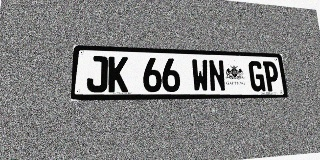6: (143, 57, 162, 92), (162, 58, 180, 92)
G: (248, 61, 266, 91)
J: (86, 56, 108, 92)
K: (108, 56, 128, 92)
N: (208, 59, 226, 92)
P: (263, 61, 280, 91)
W: (191, 59, 210, 92)
